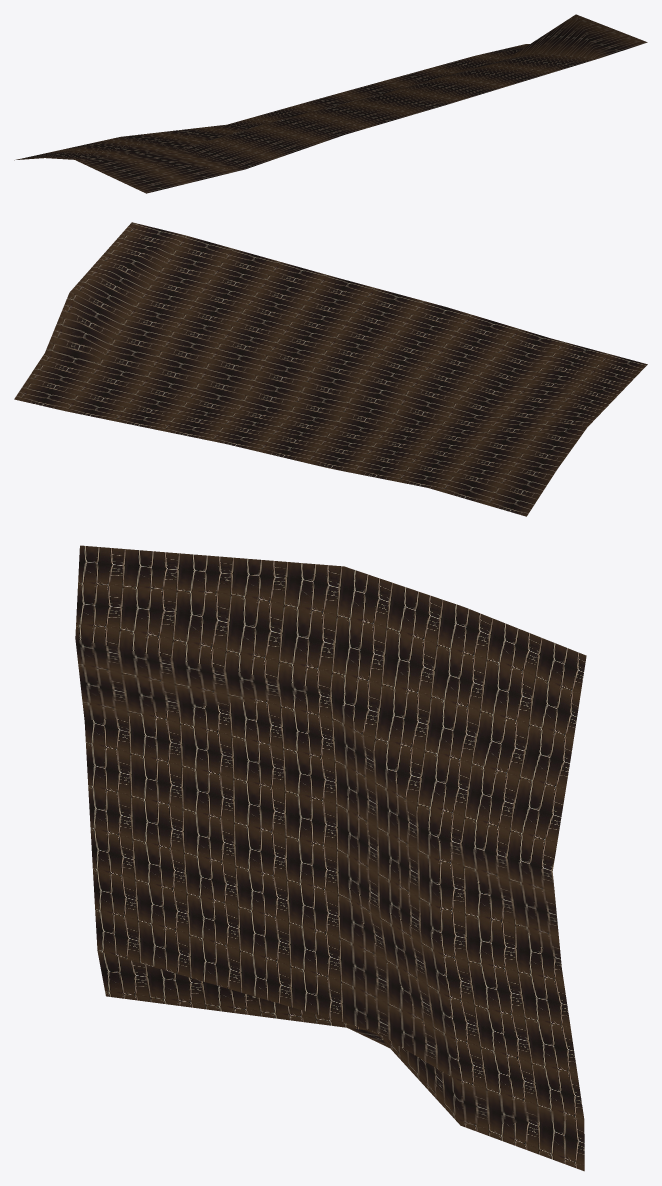
The model's file is M_Home_Garden_Outside_Bed05.fbx.
The picture shows the model from 3 angles, top to bottom: view 1: azimuth 30°, elevation 25°; view 2: azimuth 150°, elevation 25°; view 3: azimuth 270°, elevation 25°; orthographic projection. The views are drawn at different scales.
Parts seen in each view (by area): view 1: M_Home_Garden_Outside_Bed05; view 2: M_Home_Garden_Outside_Bed05; view 3: M_Home_Garden_Outside_Bed05.
Boxes of the visible parts, x1,y1,x2,y2 form: M_Home_Garden_Outside_Bed05: (14,14,647,193); M_Home_Garden_Outside_Bed05: (14,222,647,516); M_Home_Garden_Outside_Bed05: (75,545,586,1171).
Size of the model in its own units: 228 by 37.54 by 98.16.
